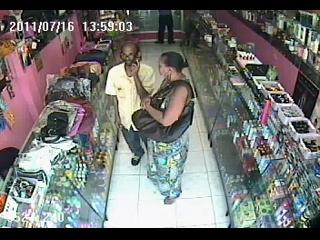Normal: (132, 51, 195, 205), (104, 40, 156, 166), (154, 10, 176, 44), (75, 50, 108, 65)
